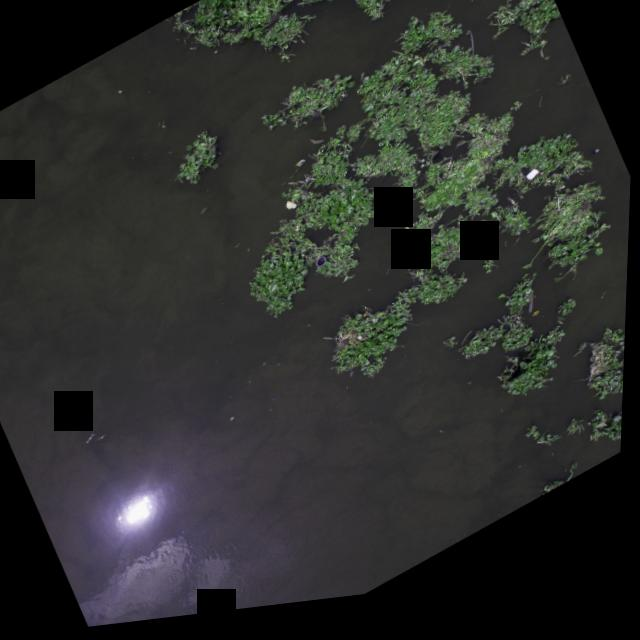plastic: (519, 172, 550, 202), (281, 199, 305, 226), (314, 260, 334, 280), (200, 209, 212, 220), (364, 319, 372, 328), (594, 161, 603, 169), (589, 391, 596, 398), (117, 91, 124, 98)
